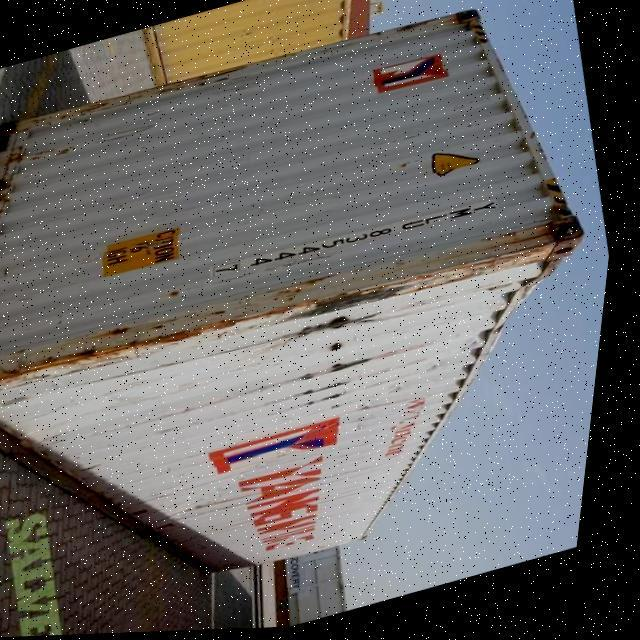dent: (288, 305, 407, 371), (163, 483, 274, 534)
